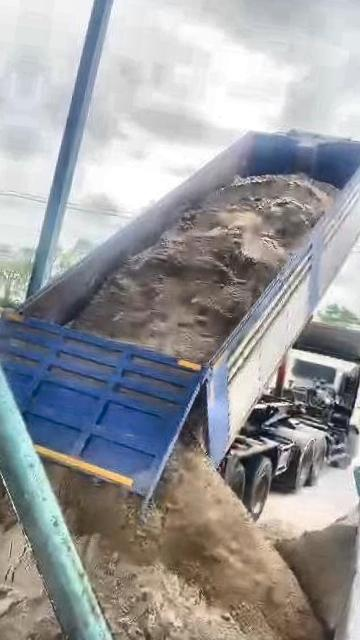sand: (49, 439, 324, 640), (71, 175, 335, 362), (0, 446, 71, 640), (276, 517, 356, 632), (259, 522, 293, 546)
